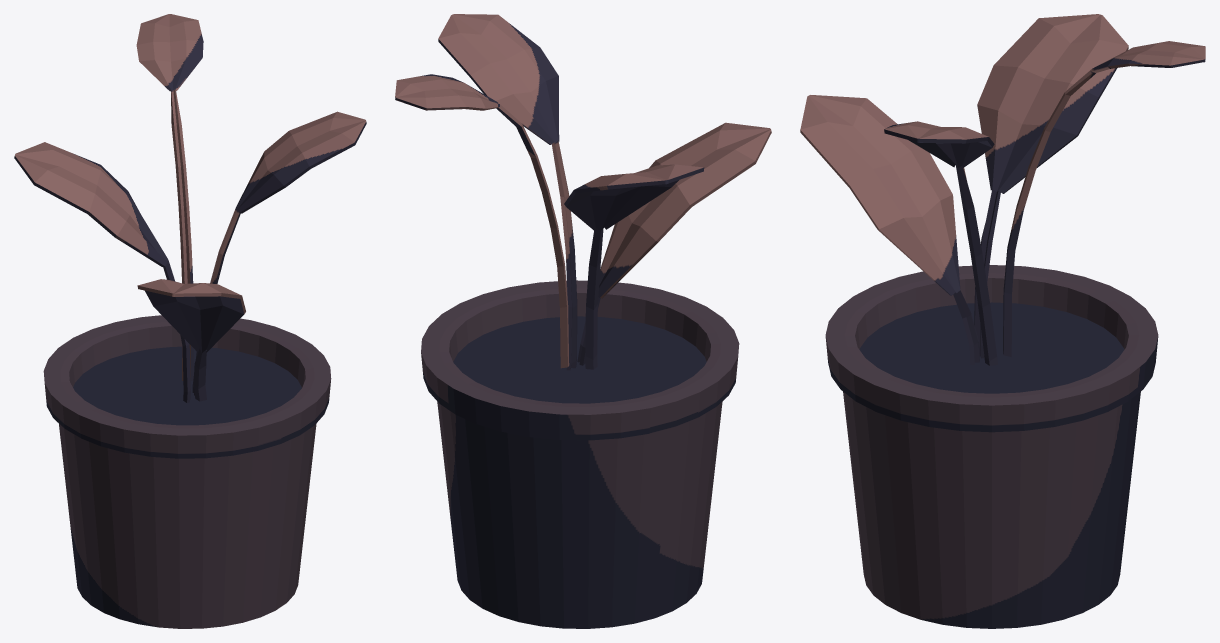
File: plant.fbx
3 renders of one model, left to right at view 1: azimuth 30°, elevation 25°; view 2: azimuth 150°, elevation 25°; view 3: azimuth 270°, elevation 25°, orthographic. The views are drawn at different scales.
Parts seen in each view (by area): view 1: plant, leaf.001, leaf.003, leaf.002, leaf; view 2: plant, leaf.002, leaf, leaf.001, leaf.003; view 3: plant, leaf.001, leaf, leaf.002, leaf.003.
Part boxes in pixels (bbox=[...]): plant: bbox=[43, 315, 331, 628]; leaf.001: bbox=[14, 142, 191, 402]; leaf.003: bbox=[136, 14, 203, 380]; leaf.002: bbox=[192, 111, 366, 395]; leaf: bbox=[137, 279, 245, 401]; plant: bbox=[421, 280, 739, 628]; leaf.002: bbox=[438, 14, 577, 370]; leaf: bbox=[577, 122, 771, 365]; leaf.001: bbox=[564, 164, 704, 369]; leaf.003: bbox=[395, 74, 569, 368]; plant: bbox=[825, 265, 1158, 628]; leaf.001: bbox=[974, 14, 1128, 358]; leaf: bbox=[800, 95, 979, 364]; leaf.002: bbox=[884, 121, 997, 365]; leaf.003: bbox=[1003, 41, 1205, 356].
Bounding box in the file's own units: 100 × 166 × 109.
Materials: 5 (5 with a texture image).
